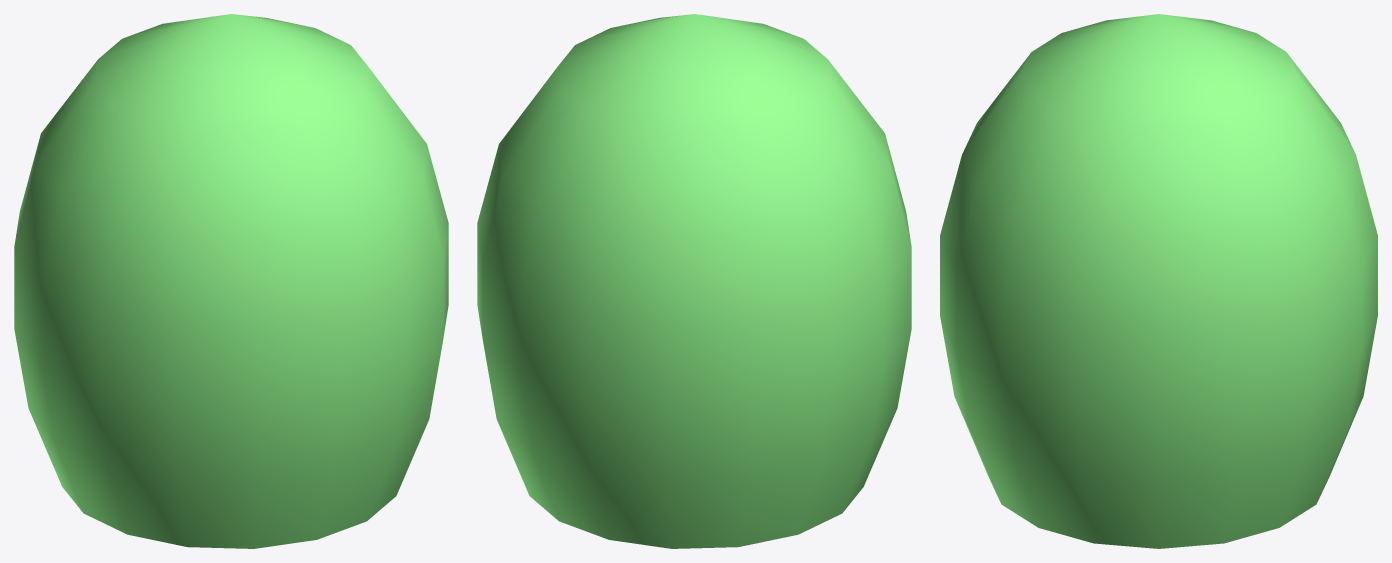
Rendered from cactus_slice.glb.
3 views of the same model, side by side, from view 1: azimuth 30°, elevation 25°; view 2: azimuth 150°, elevation 25°; view 3: azimuth 270°, elevation 25° (orthographic).
Parts seen in each view (by area): view 1: CactusA; view 2: CactusA; view 3: CactusA.
Boxes of the visible parts, box(x1,y1,x2,y2) form: CactusA: box(14, 14, 448, 548); CactusA: box(477, 14, 911, 548); CactusA: box(940, 14, 1377, 548).
Bounding box in the file's own units: 0.3 × 0.35 × 0.3.
